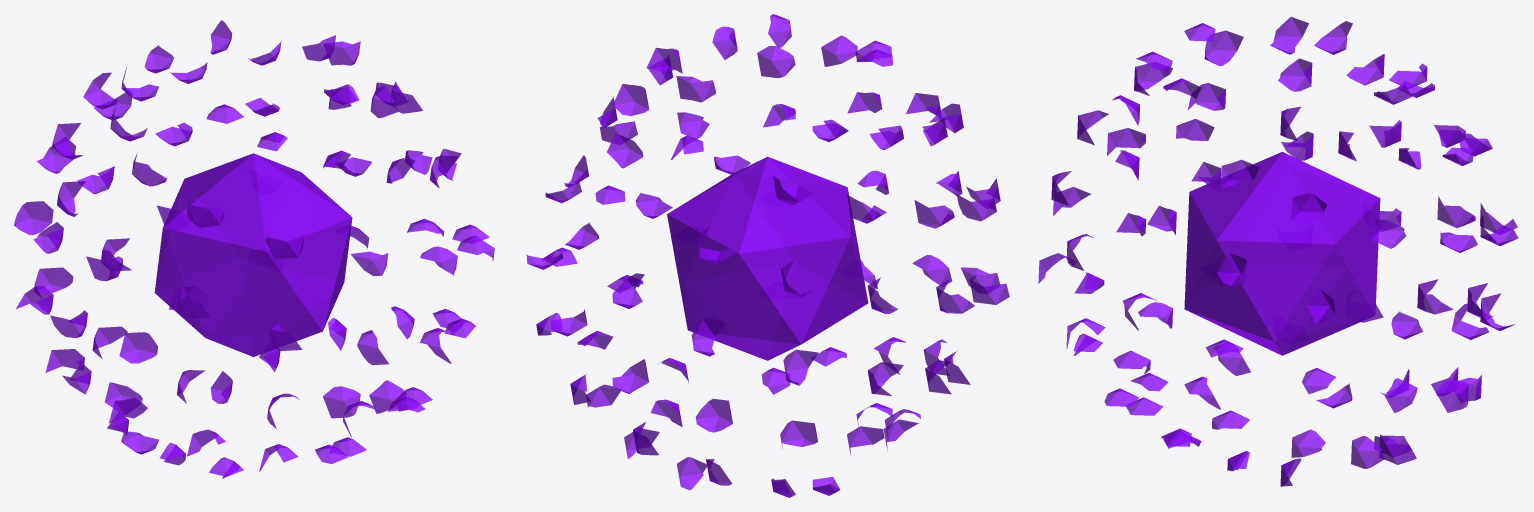
Rendered from spell3.obj.
The picture shows the model from 3 angles, left to right: view 1: azimuth 30°, elevation 25°; view 2: azimuth 150°, elevation 25°; view 3: azimuth 270°, elevation 25°; orthographic projection.
Visible parts, largest first — view 1: main, c.006, e.013, c.015, c.007, e.014, c.005, c.014, c.000, b.010, d.002, e.003 (+28 smaller); view 2: main, a.003, a.010, c.001, b.008, a.011, a.002, b.007, a.004, c.002, a.009, c.008 (+25 smaller); view 3: main, e.002, b.003, e.001, e.011, d.013, d.004, e.003, d.005, b.004, b.002, a.005 (+26 smaller).
Boxes of the visible parts, bbox=[...] form: main: bbox=[154, 153, 352, 356]; c.006: bbox=[14, 201, 53, 234]; e.013: bbox=[119, 332, 157, 363]; c.015: bbox=[323, 386, 360, 418]; c.007: bbox=[34, 267, 73, 299]; e.014: bbox=[104, 382, 142, 414]; c.005: bbox=[37, 137, 75, 173]; c.014: bbox=[369, 380, 406, 413]; c.000: bbox=[323, 41, 360, 65]; b.010: bbox=[45, 349, 84, 372]; d.002: bbox=[83, 72, 118, 109]; e.003: bbox=[187, 195, 224, 227]; main: bbox=[667, 156, 868, 360]; a.003: bbox=[757, 46, 795, 77]; a.010: bbox=[695, 398, 732, 432]; c.001: bbox=[613, 84, 649, 115]; b.008: bbox=[783, 349, 818, 385]; a.011: bbox=[780, 420, 817, 448]; a.002: bbox=[821, 35, 857, 66]; b.007: bbox=[691, 319, 725, 356]; a.004: bbox=[676, 76, 716, 102]; c.002: bbox=[607, 133, 643, 168]; a.009: bbox=[612, 359, 648, 393]; c.008: bbox=[969, 274, 1009, 304]; main: bbox=[1184, 152, 1380, 355]; e.002: bbox=[1204, 30, 1243, 66]; b.003: bbox=[1291, 193, 1327, 226]; e.001: bbox=[1270, 17, 1308, 54]; e.011: bbox=[1436, 379, 1468, 412]; d.013: bbox=[1351, 435, 1385, 468]; d.004: bbox=[1278, 58, 1312, 91]; e.003: bbox=[1134, 62, 1172, 95]; d.005: bbox=[1188, 83, 1225, 110]; b.004: bbox=[1371, 219, 1406, 248]; b.002: bbox=[1221, 159, 1259, 187]; a.005: bbox=[1217, 253, 1246, 285].
Bounding box in the file's own units: 1.07 × 0.966 × 1.07.
